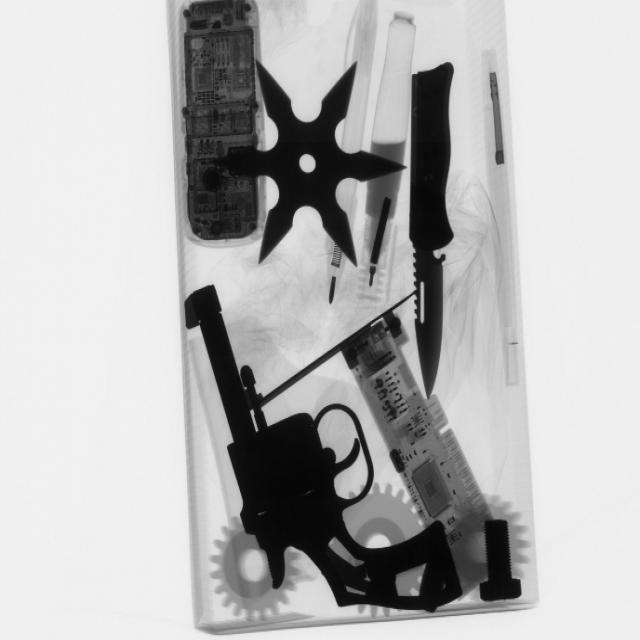GUN: (183, 283, 472, 623)
KNIFE: (398, 59, 472, 387)
SHURIKEN: (222, 53, 396, 271)
